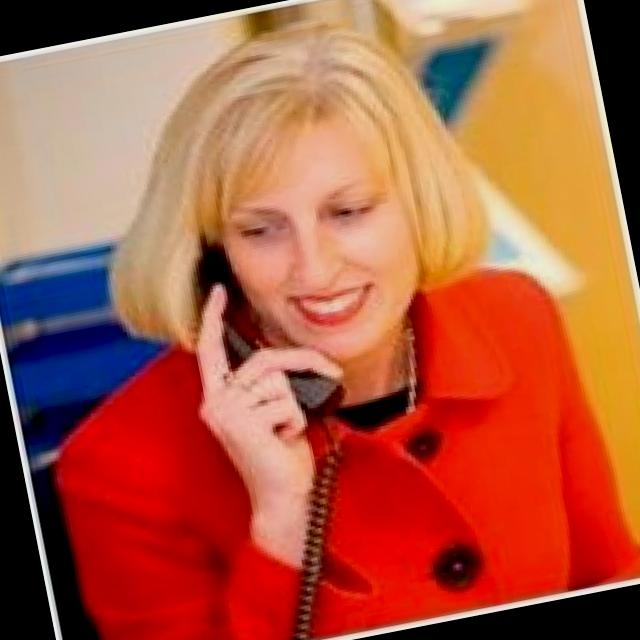no_vest: (9, 239, 640, 640)
